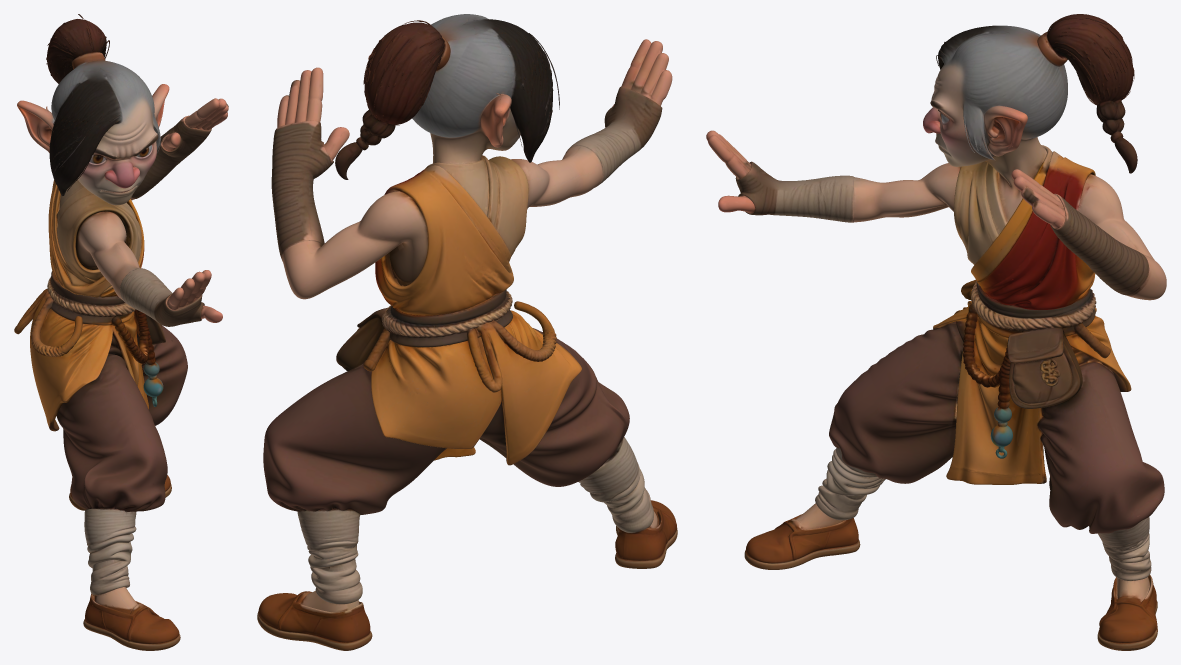
The model's file is gnome_monk_full_female_01.glb.
The picture shows the model from 3 angles, left to right: view 1: azimuth 30°, elevation 25°; view 2: azimuth 150°, elevation 25°; view 3: azimuth 270°, elevation 25°; orthographic projection. The views are drawn at different scales.
Parts seen in each view (by area): view 1: material; view 2: material; view 3: material.
Boxes of the visible parts, x1=… form: material: x1=14, y1=14, x2=228, y2=650; material: x1=257, y1=14, x2=677, y2=650; material: x1=706, y1=14, x2=1166, y2=650.
Size of the model in its own units: 0.4578 by 0.9658 by 0.6968.
1 material, 1 textured.
